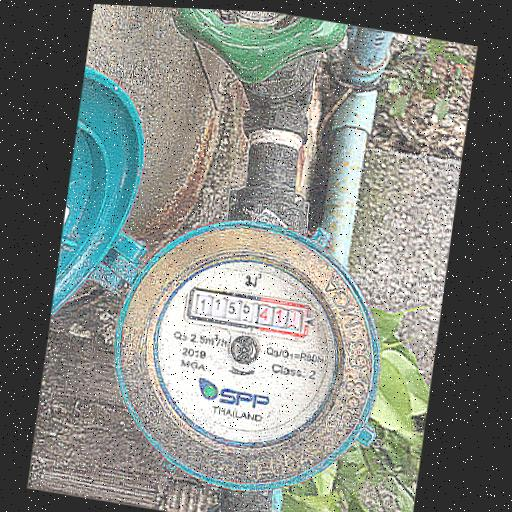1: (272, 308, 287, 329), (287, 310, 302, 331), (196, 295, 210, 316), (211, 298, 225, 318)
4: (257, 306, 273, 326)
5: (226, 299, 240, 320), (240, 303, 254, 323)
border_water_meter_number: (186, 285, 312, 340)
